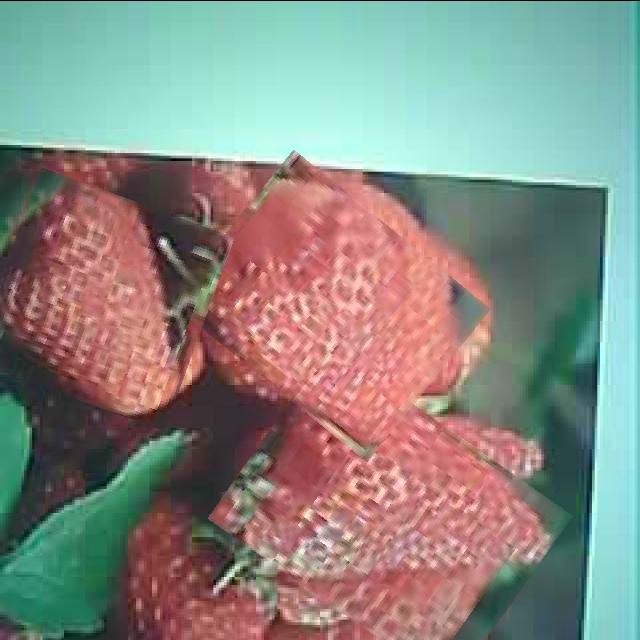strawberry: (225, 377, 557, 640), (186, 178, 474, 432), (0, 181, 221, 416)
